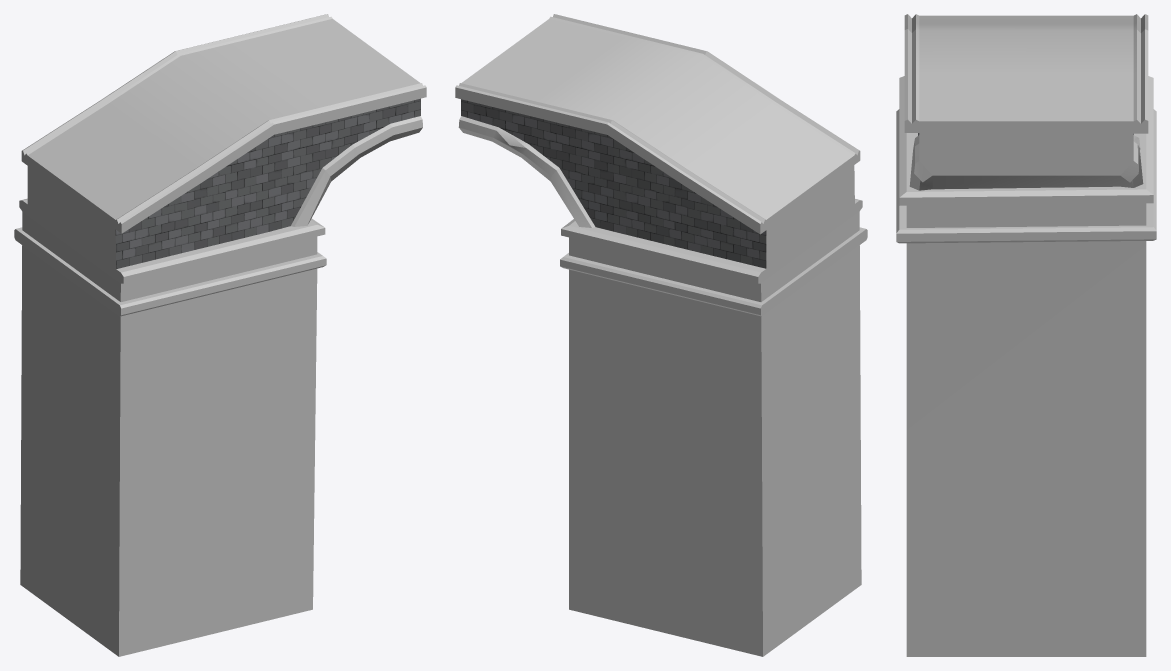
Rendered from SM_Bld_Bridge_Ramp_01.fbx.
3 renders of one model, left to right at view 1: azimuth 30°, elevation 25°; view 2: azimuth 150°, elevation 25°; view 3: azimuth 270°, elevation 25°, orthographic. The views are drawn at different scales.
Visible parts, largest first — view 1: SM_Bld_Bridge_Ramp_01; view 2: SM_Bld_Bridge_Ramp_01; view 3: SM_Bld_Bridge_Ramp_01.
Part boxes in pixels (bbox=[...]): SM_Bld_Bridge_Ramp_01: bbox=[14, 14, 426, 656]; SM_Bld_Bridge_Ramp_01: bbox=[455, 14, 867, 656]; SM_Bld_Bridge_Ramp_01: bbox=[896, 14, 1156, 656].
Bounding box in the file's own units: 1014 × 1554 × 607.
